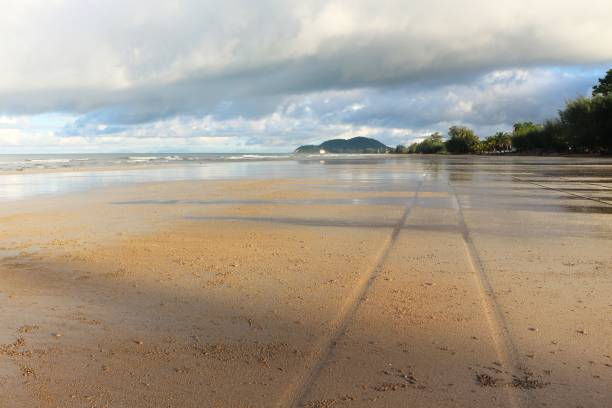vehicle_track: (277, 180, 422, 406), (449, 183, 522, 382), (513, 177, 611, 205)
